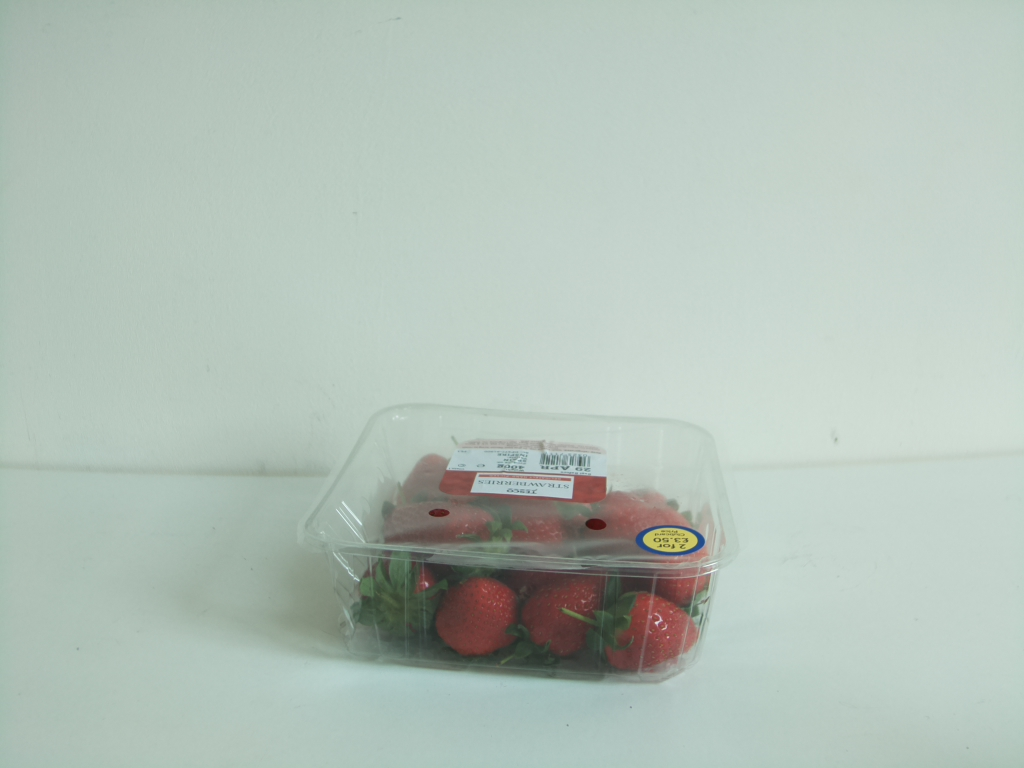soft-fruit: (301, 401, 736, 689)
